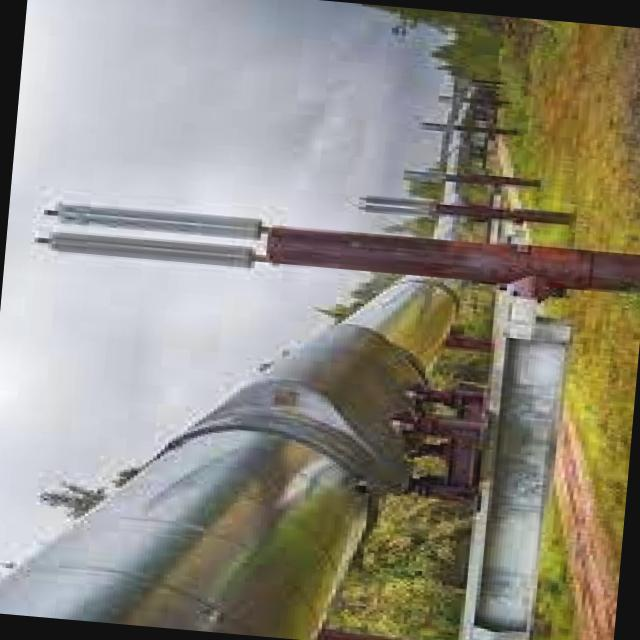gas: (0, 326, 486, 640), (341, 274, 457, 367)
